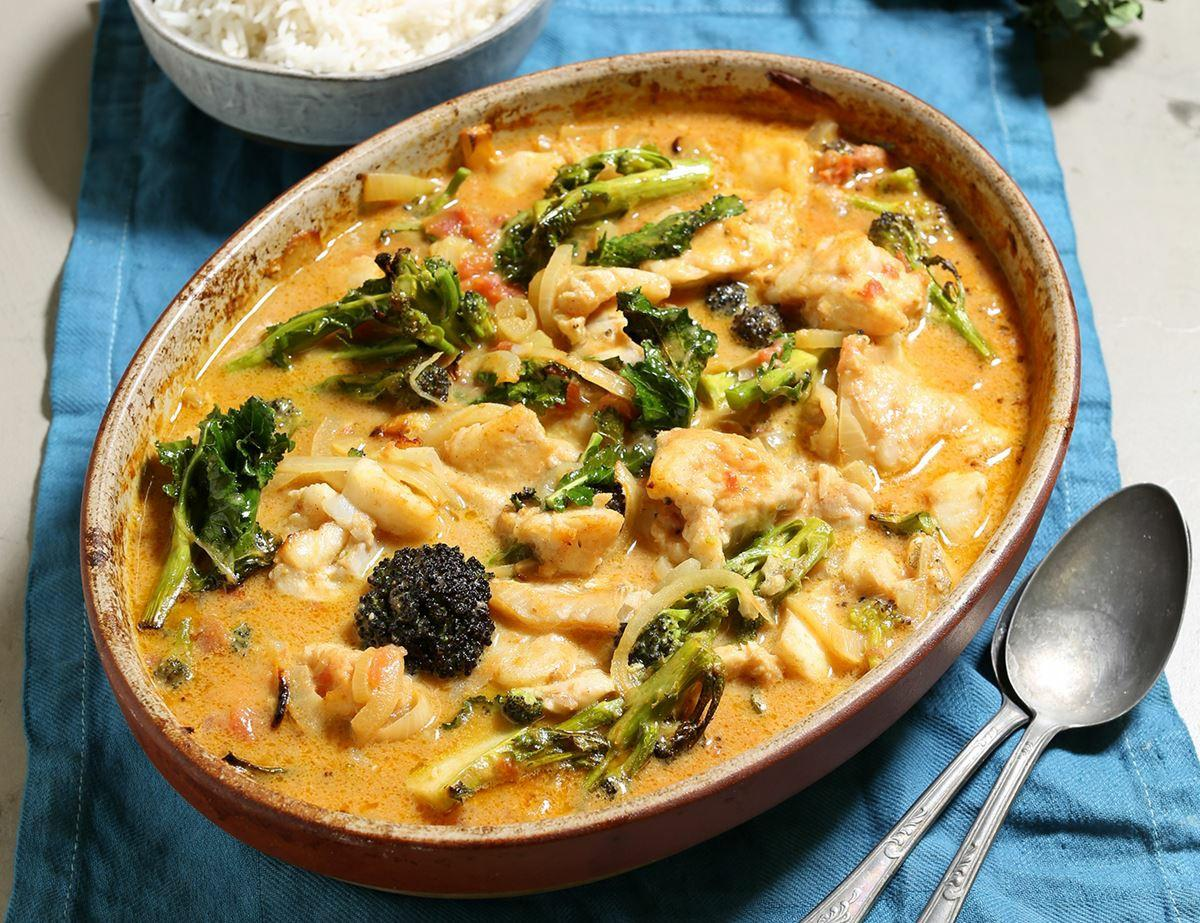FishCurry: (121, 102, 1031, 826)
WhiteRice: (140, 0, 507, 70)
